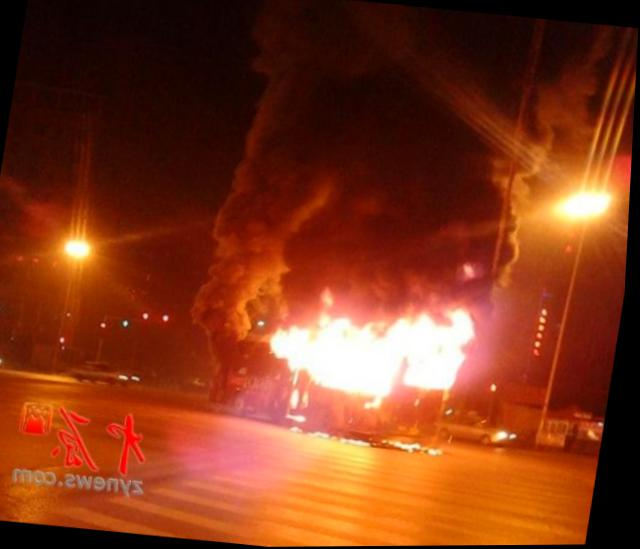fire: (257, 278, 483, 407)
